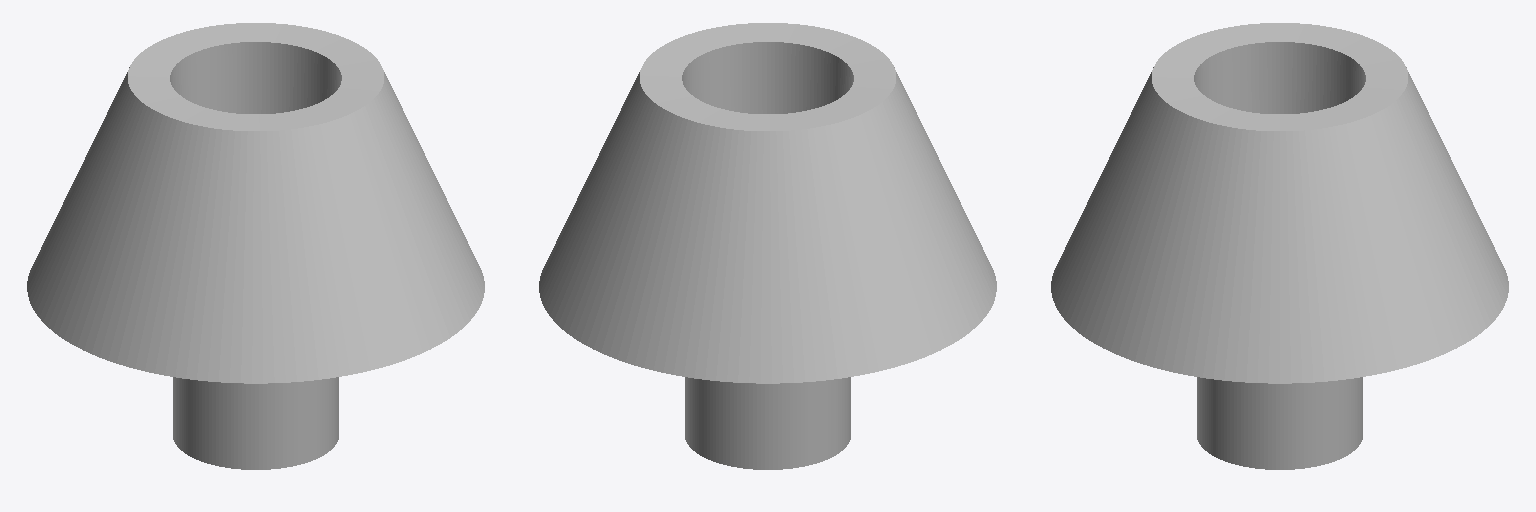
3 views of the same model, side by side, from view 1: azimuth 30°, elevation 25°; view 2: azimuth 150°, elevation 25°; view 3: azimuth 270°, elevation 25° (orthographic).
Parts seen in each view (by area): view 1: Indicator.000_Circle.007; view 2: Indicator.000_Circle.007; view 3: Indicator.000_Circle.007.
Boxes of the visible parts, x1,y1,x2,y2 form: Indicator.000_Circle.007: [27, 23, 484, 469]; Indicator.000_Circle.007: [539, 23, 996, 469]; Indicator.000_Circle.007: [1051, 23, 1508, 469].
Bounding box in the file's own units: 1.78 × 1.53 × 1.78.